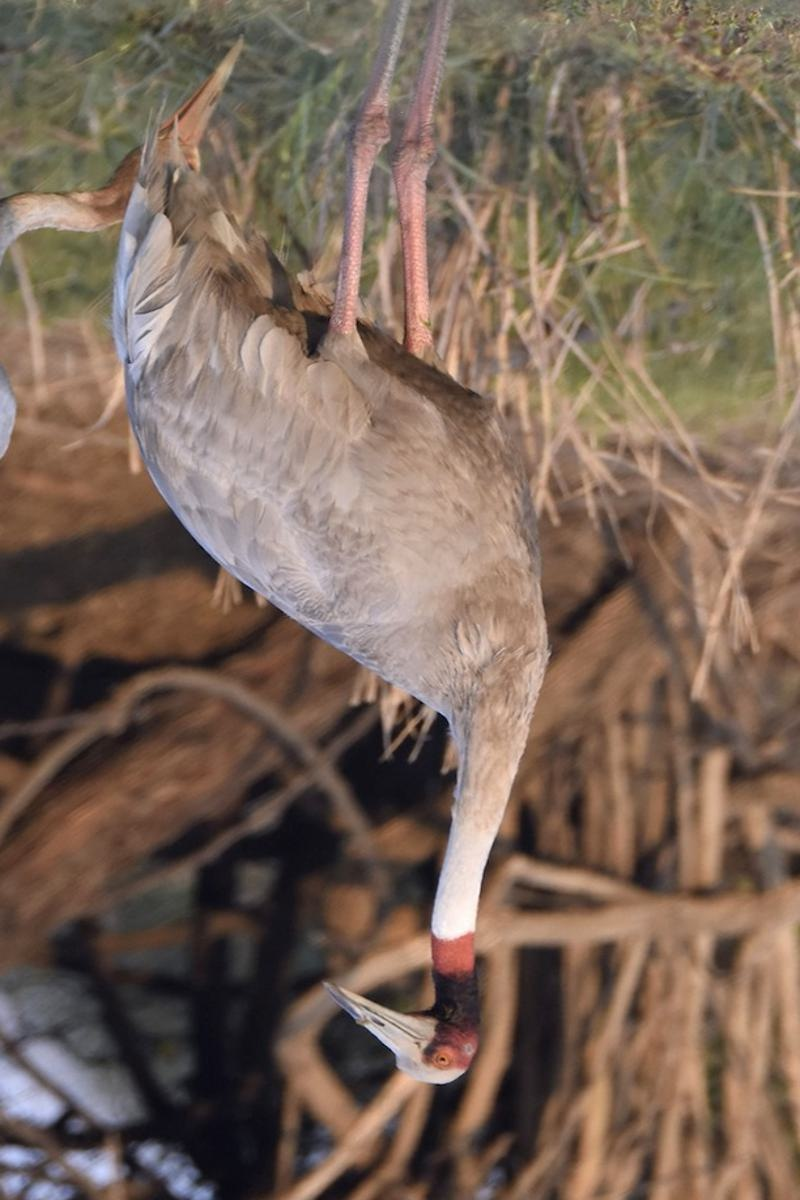crane: (119, 25, 539, 1086)
